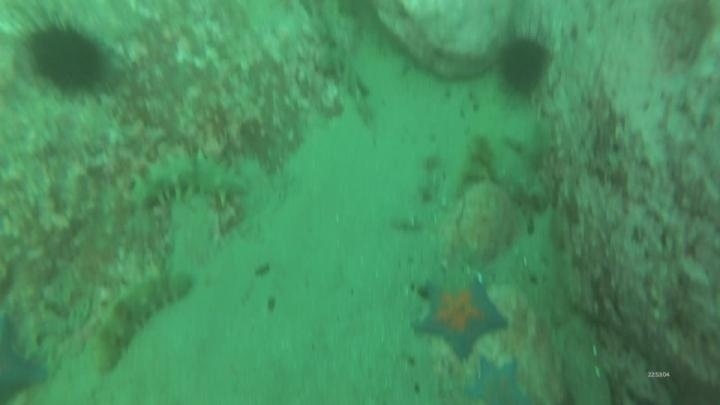echinus: (22, 18, 114, 99), (491, 30, 555, 98)
holothurian: (87, 266, 196, 376), (125, 148, 253, 214)
starfish: (410, 274, 510, 361), (0, 310, 56, 405), (462, 355, 533, 405)
